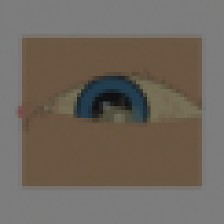corneal_ulcer: (89, 97, 144, 141)
